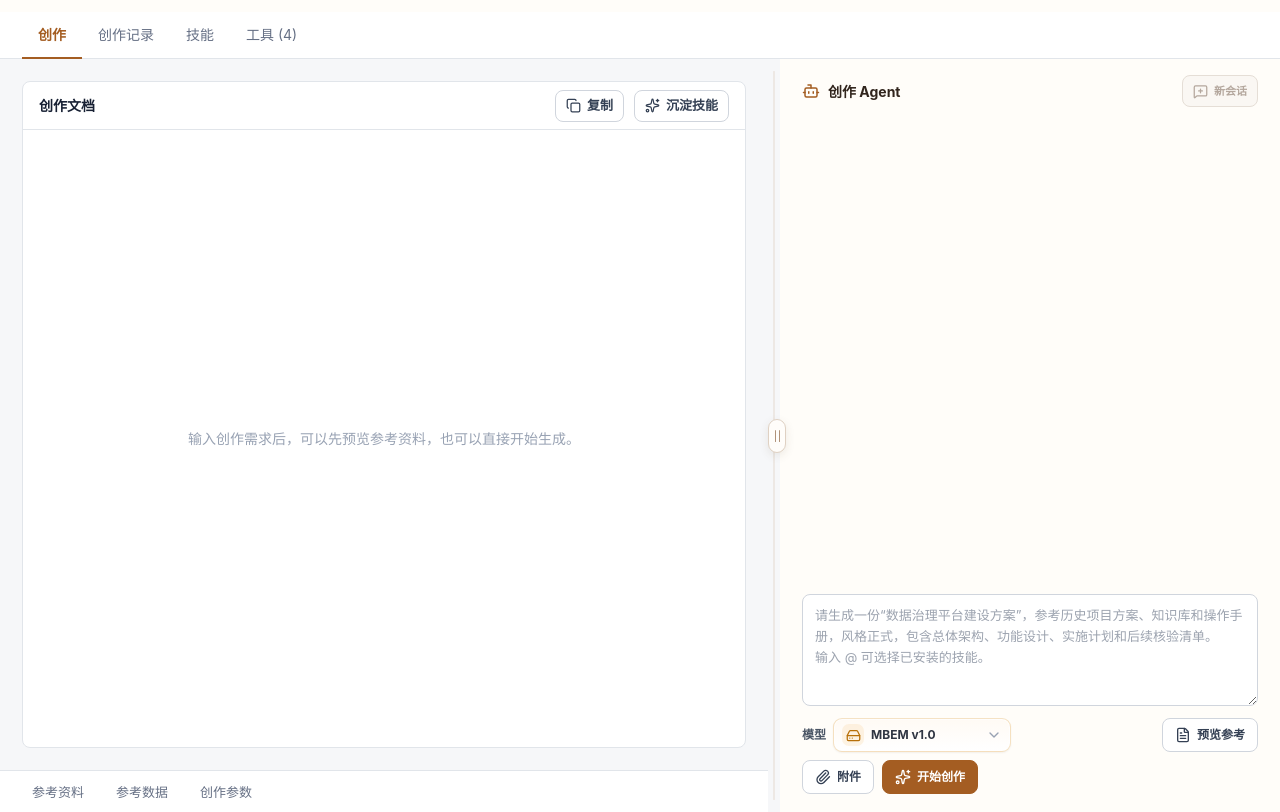
Test case: 创作 Agent 多轮 Loop › Agent 要求确认时暂停，用户确认后从同一目标继续
Replace the text in the text box with placeholder "输入 @ 可选择已安装的技能" with "写方案" at [1030, 650], box x1=802 y1=594 x2=1258 y2=706
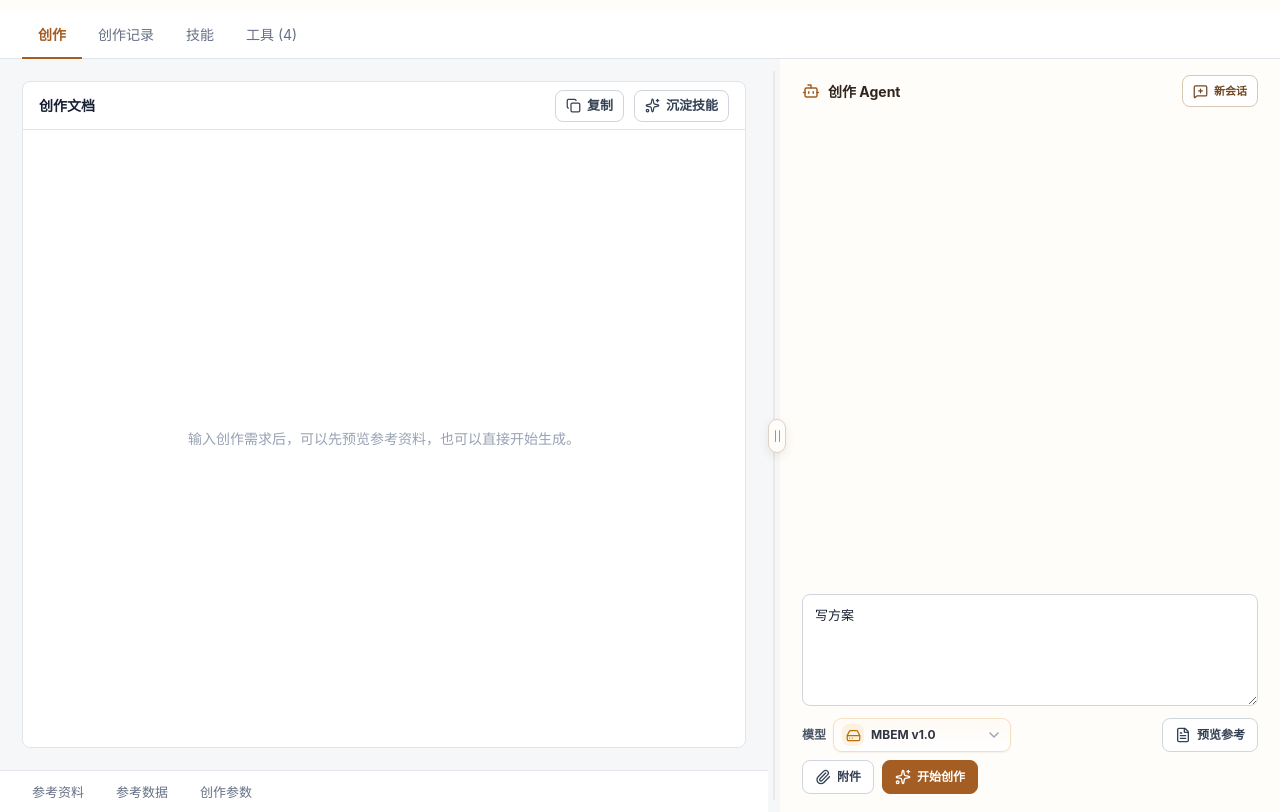
Click the button "开始创作" at [930, 777], box x1=882 y1=760 x2=978 y2=794
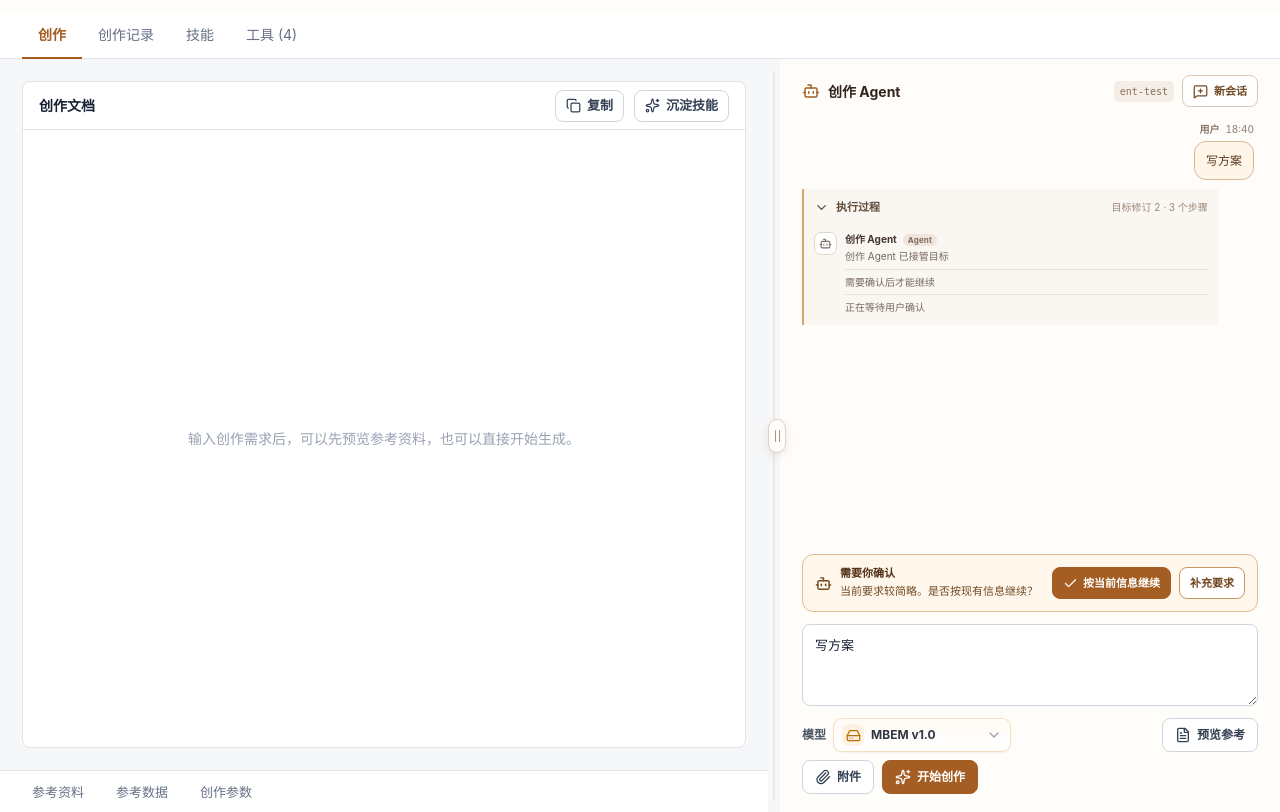
Result: the element named "Agent 请求确认" shows "当前要求较简略" at x1=840 y1=584 x2=1038 y2=598
Click the button "按当前信息继续" at [1112, 583], box x1=1052 y1=567 x2=1171 y2=599
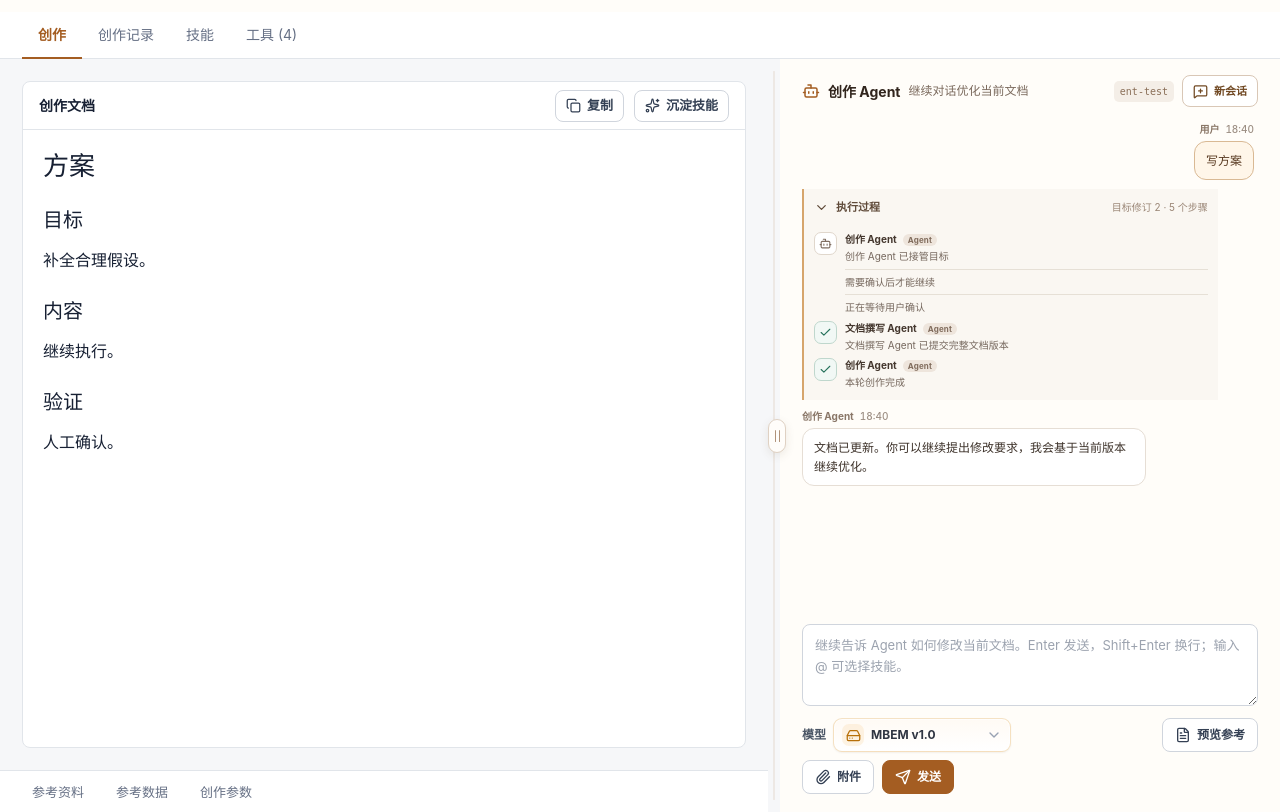
Result: the heading "方案" is shown at x1=43 y1=150 x2=95 y2=181
